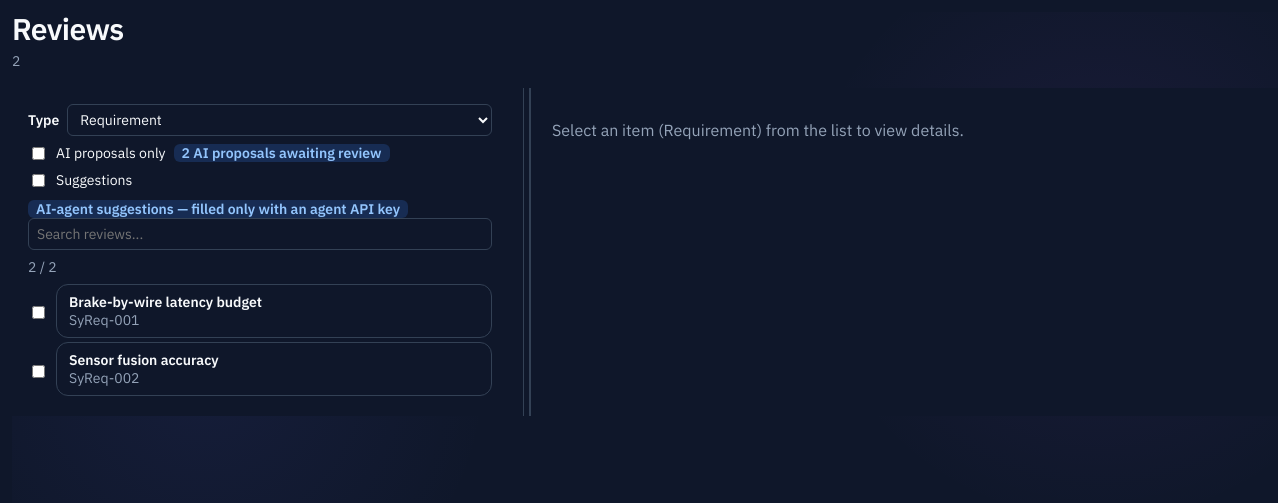
Scenario: ReviewsView (REQ-144 smoke tests) › [REQ-144] renders the workflow history in the History tab
This screenshot has width=1278, height=503.
Expected: the text "Brake-by-wire latency budget" is shown, left=69, top=292, right=262, bottom=310
Click the button with test id "review-list-item-req-001": (166, 302) left=56, top=284, right=492, bottom=338
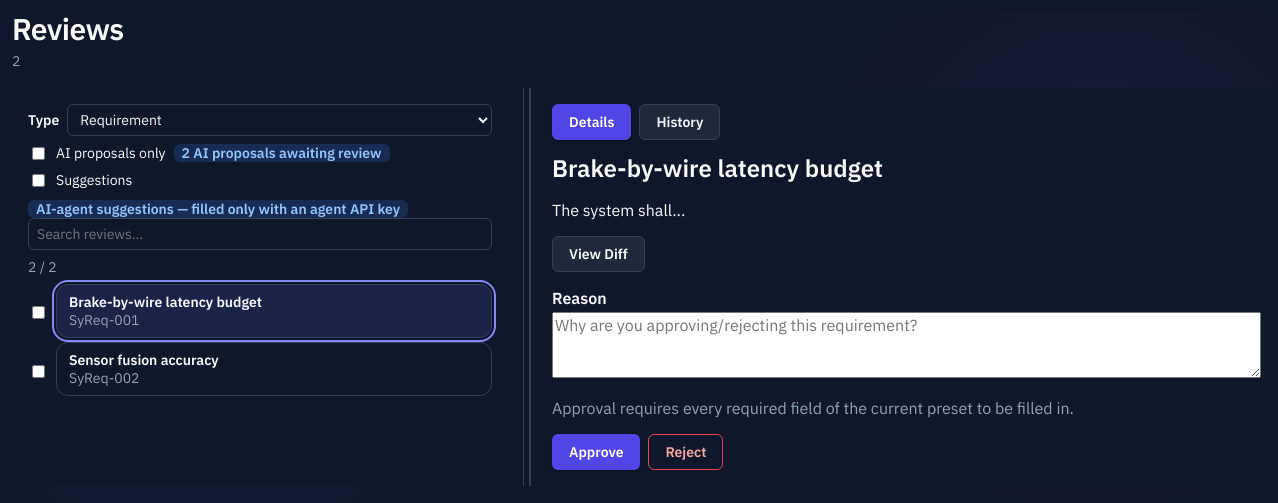
Click the button with test id "review-detail-tab-history": (680, 122) left=640, top=104, right=720, bottom=140
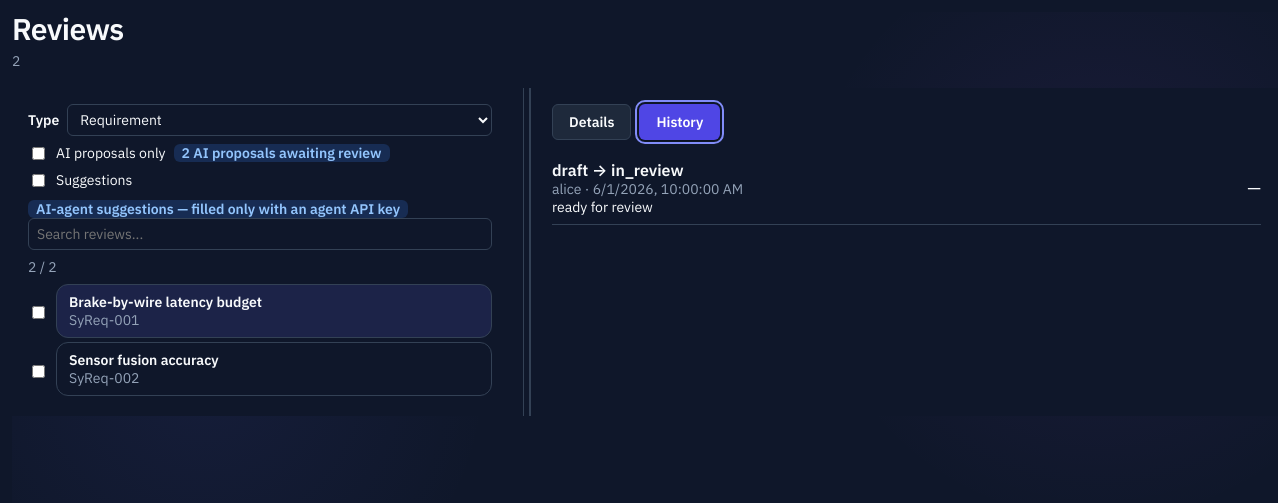
Result: the list item with test id "review-history-entry-hist-1" is shown at left=552, top=152, right=1261, bottom=225
Result: the text "draft → in_review" is shown at left=552, top=160, right=684, bottom=180
